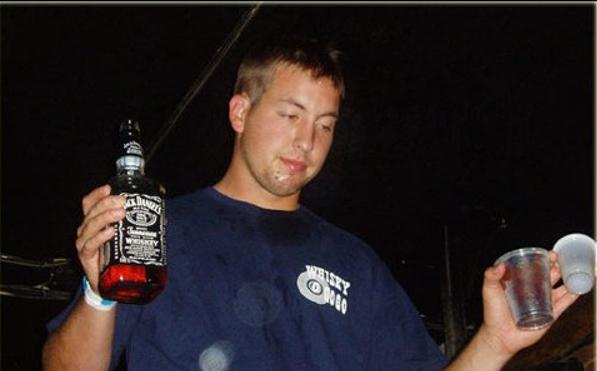Drunk: (255, 69, 335, 185)
